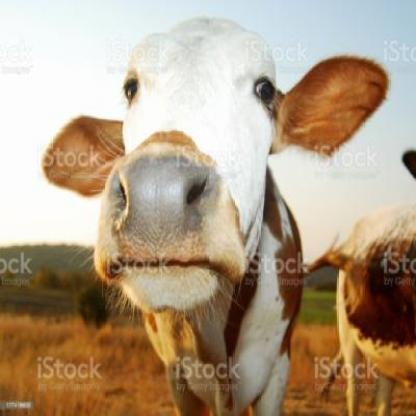lower: (110, 270, 219, 306)
mouth: (97, 150, 246, 312)
upper: (106, 161, 212, 247)
